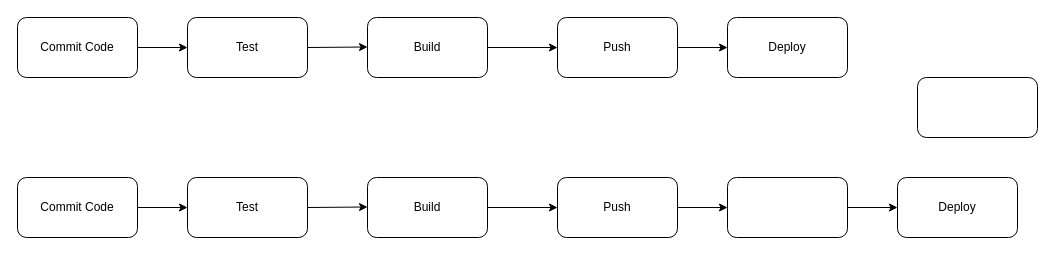
Some shapes in this 1055 by 255 pixel diagram are drawn without their labels. The shapes that lost their labels are listed below. From the top down, each one's centre as x and y in pixels, then its label:
(977,107): Pull Request
(787,207): Code quality via codacy
